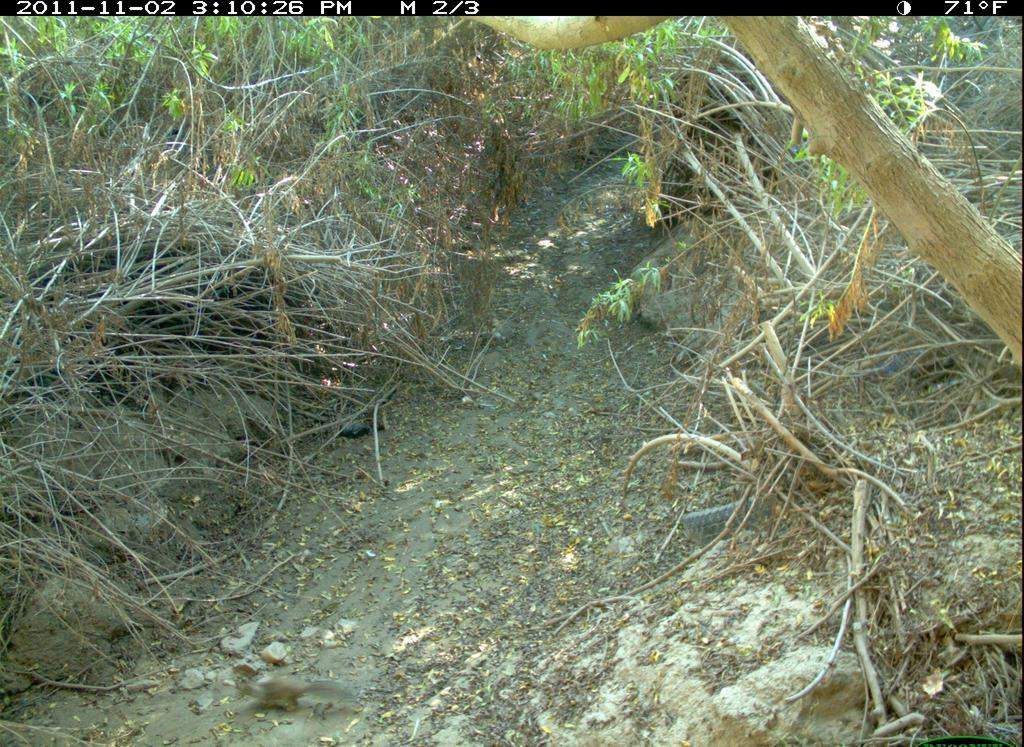squirrel: (227, 670, 367, 726)
